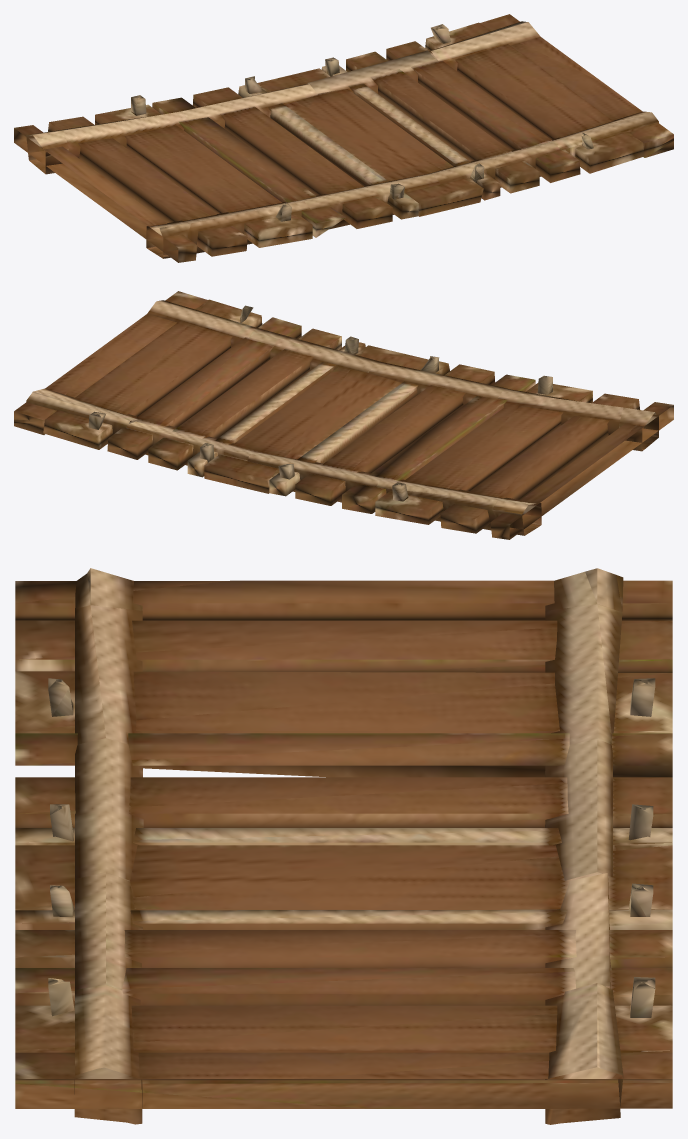
File: BridgeDeck.fbx
3 renders of one model, top to bottom at view 1: azimuth 30°, elevation 25°; view 2: azimuth 150°, elevation 25°; view 3: azimuth 270°, elevation 25°, orthographic. The views are drawn at different scales.
Parts seen in each view (by area): view 1: BridgeDeck; view 2: BridgeDeck; view 3: BridgeDeck.
Boxes of the visible parts, <box> form: BridgeDeck: <box>14,14,673,262</box>; BridgeDeck: <box>14,291,673,539</box>; BridgeDeck: <box>15,568,672,1124</box>.
Bounding box in the file's own units: 2.2 × 0.1864 × 1.26.
Materials: 1 (1 with a texture image).
